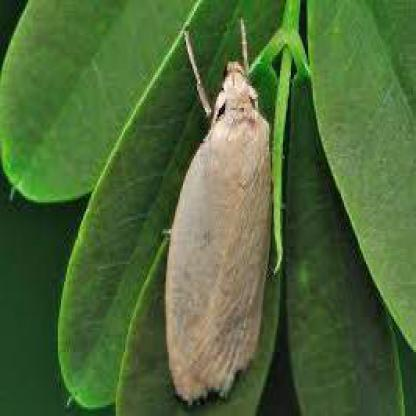Leaf Webber: (160, 17, 274, 406)
